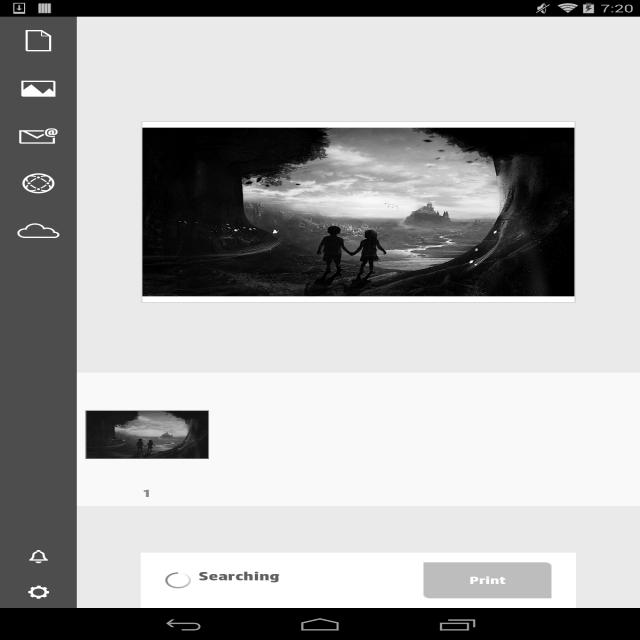Button: (424, 562, 552, 598)
ImageView: (141, 67, 576, 357), (85, 410, 209, 459), (0, 16, 77, 64), (0, 64, 77, 112), (0, 160, 77, 208), (0, 207, 77, 254), (0, 113, 77, 159), (13, 540, 64, 572), (13, 576, 64, 608)
ProgressBar: (162, 570, 194, 590)
TextView: (198, 568, 397, 584), (142, 486, 152, 501)
